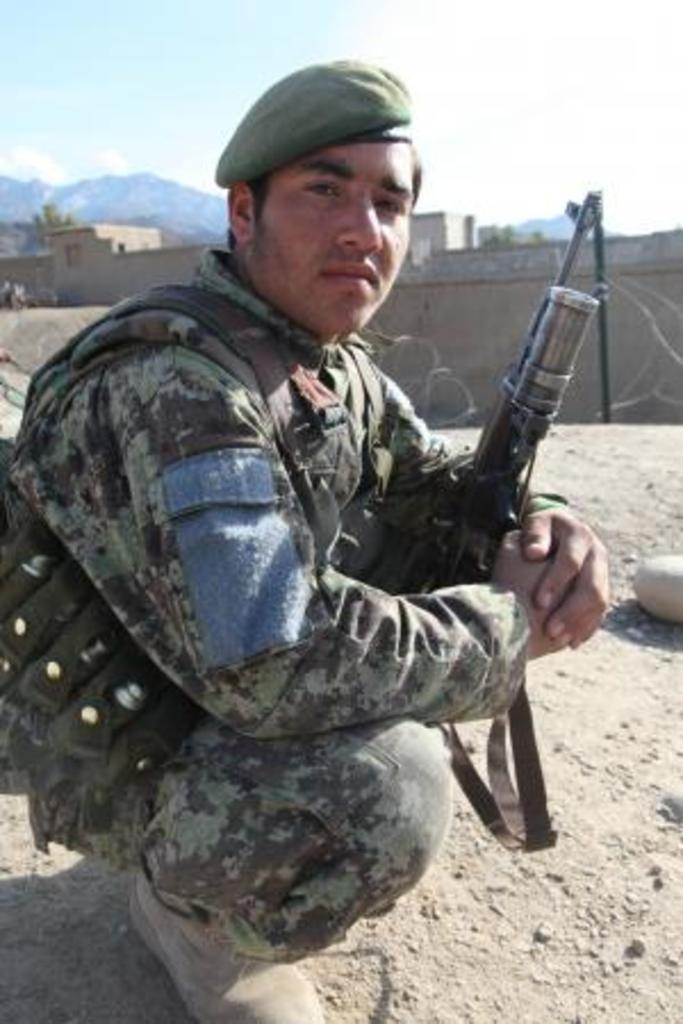Rifle: (430, 187, 596, 567)
